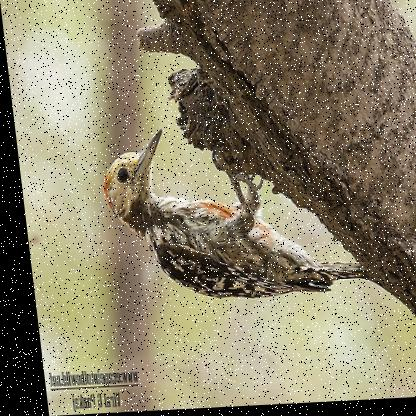Burung: (94, 122, 369, 305)
